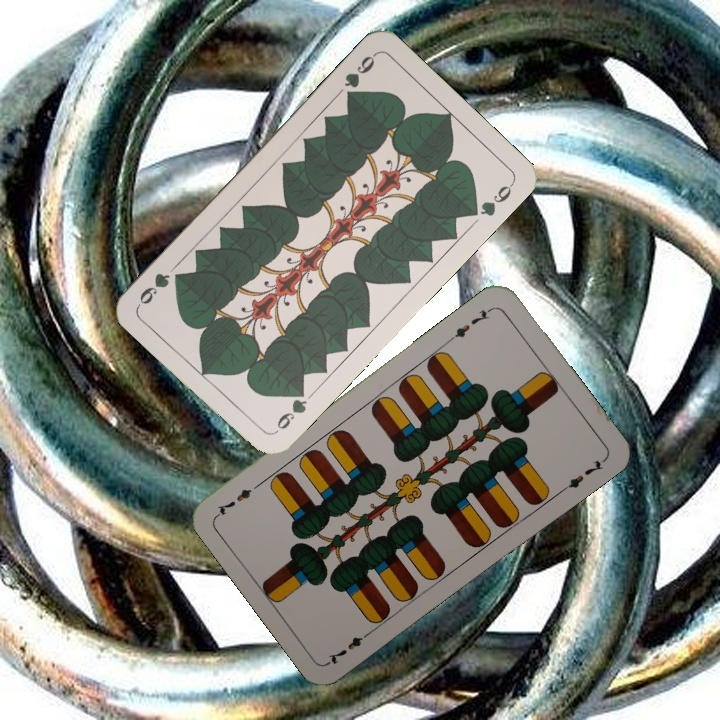E7: (324, 626, 375, 668), (445, 303, 496, 344)
G9: (270, 383, 310, 436), (340, 49, 379, 103)
